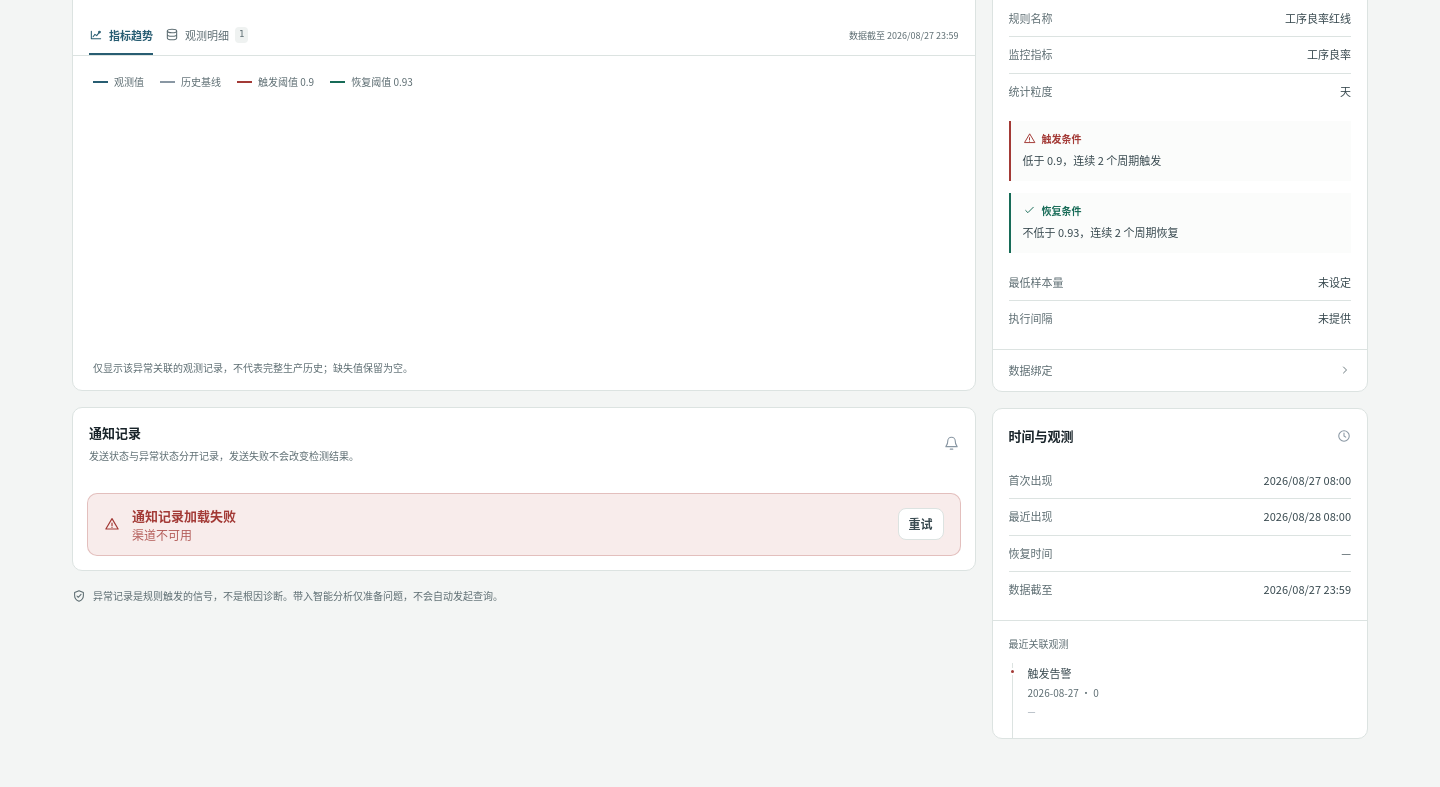
AlertDetailPage › keeps evidence visible if notification loading fails and can retry
(page scrolled)
Expected: the text "通知记录加载失败" is shown, [132,506,236,524]
Expected: the picture named "异常指标历史趋势" is shown, [93,74,413,375]
Click the button "重试". click: {"x": 920, "y": 524}
box: [898,508,944,540]
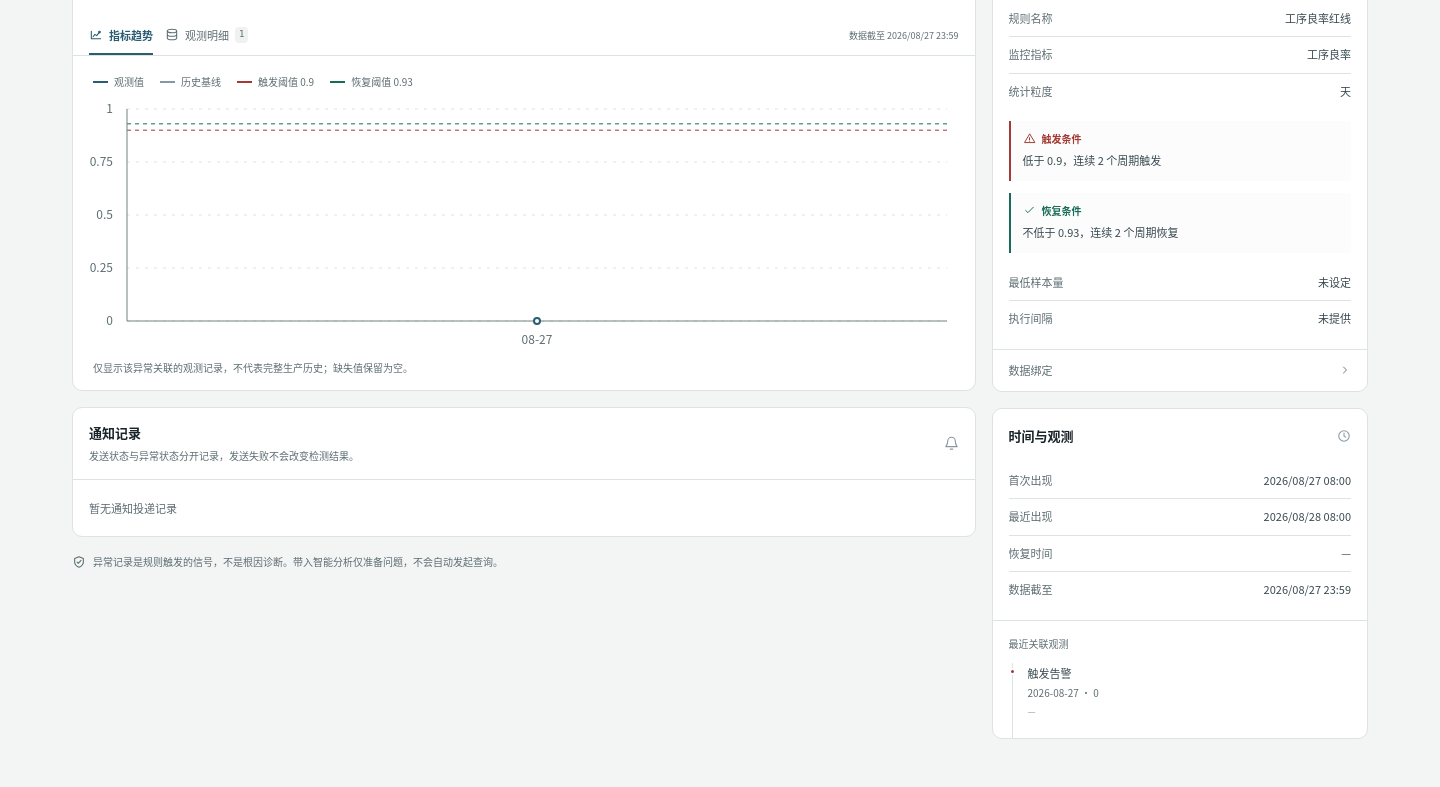
Now the text "通知记录加载失败" is gone
Now the text "暂无通知投递记录" is shown, box [73,478,974,536]
